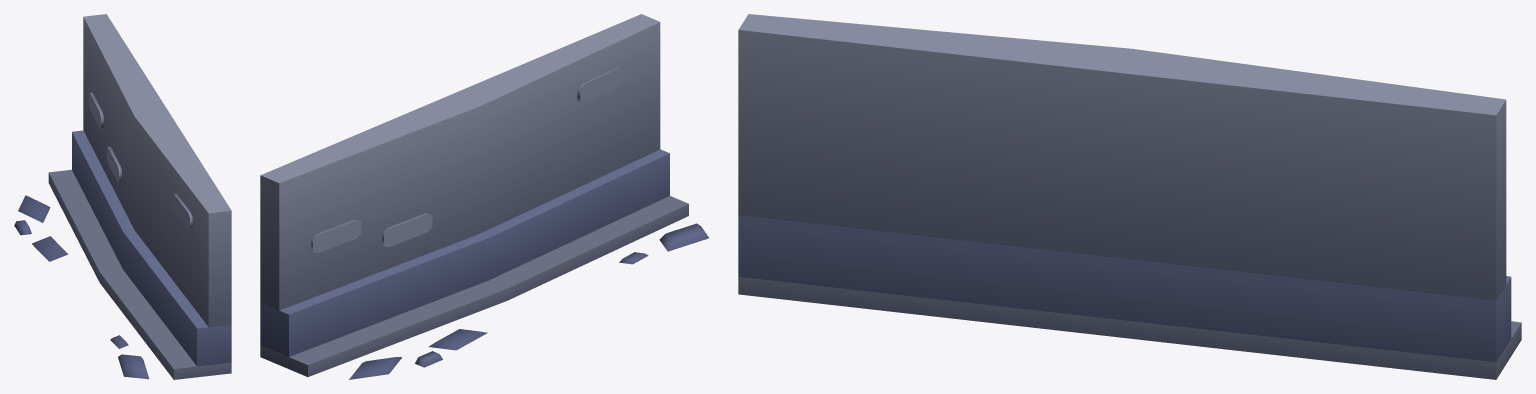
File: template-wall.001.002_lev1.glb
3 views of the same model, side by side, from view 1: azimuth 30°, elevation 25°; view 2: azimuth 150°, elevation 25°; view 3: azimuth 270°, elevation 25° (orthographic). The views are drawn at different scales.
Parts seen in each view (by area): view 1: template-wall.001.002_lev1; view 2: template-wall.001.002_lev1; view 3: template-wall.001.002_lev1.
Boxes of the visible parts, bbox=[...] form: template-wall.001.002_lev1: bbox=[14, 14, 231, 379]; template-wall.001.002_lev1: bbox=[260, 14, 708, 379]; template-wall.001.002_lev1: bbox=[738, 14, 1521, 379].
Bounding box in the file's own units: 6.55 × 5.3 × 14.21.
Materials: 1 (1 with a texture image).
